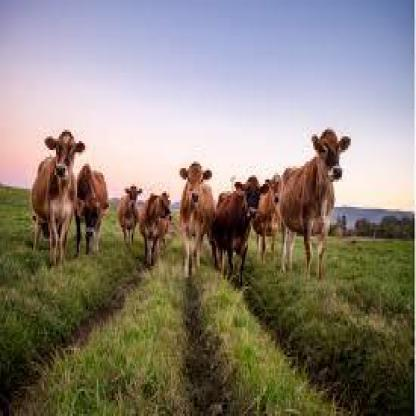cow: (279, 127, 352, 282), (32, 132, 84, 264), (216, 178, 268, 286), (178, 163, 215, 281), (76, 166, 108, 257), (253, 176, 281, 256), (141, 193, 171, 264), (119, 183, 140, 242)
